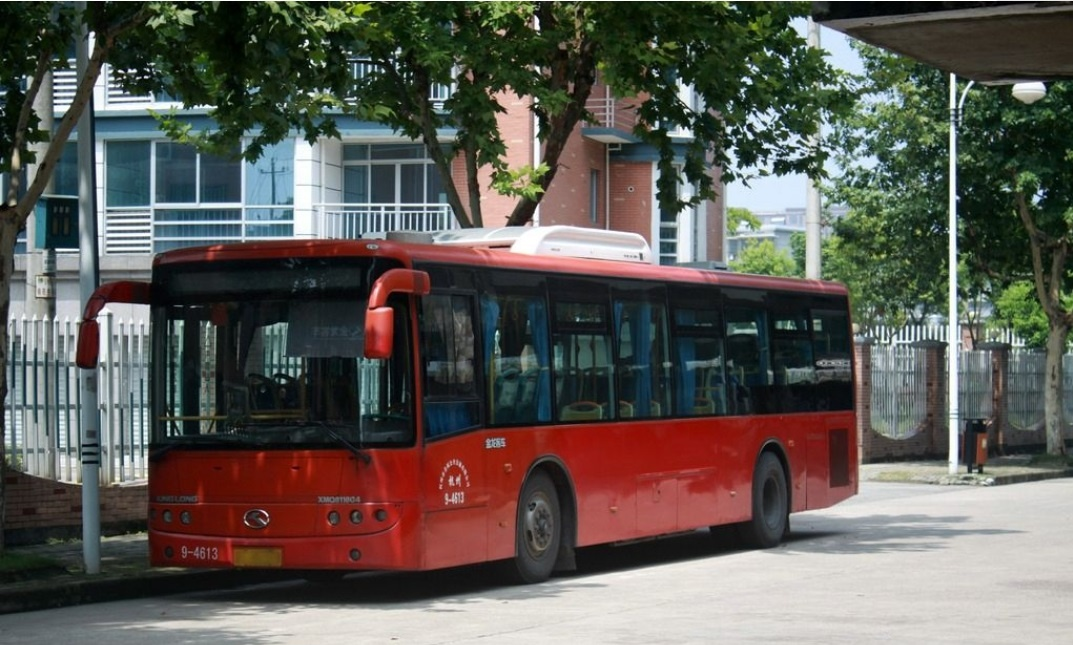bus: (98, 221, 873, 586)
